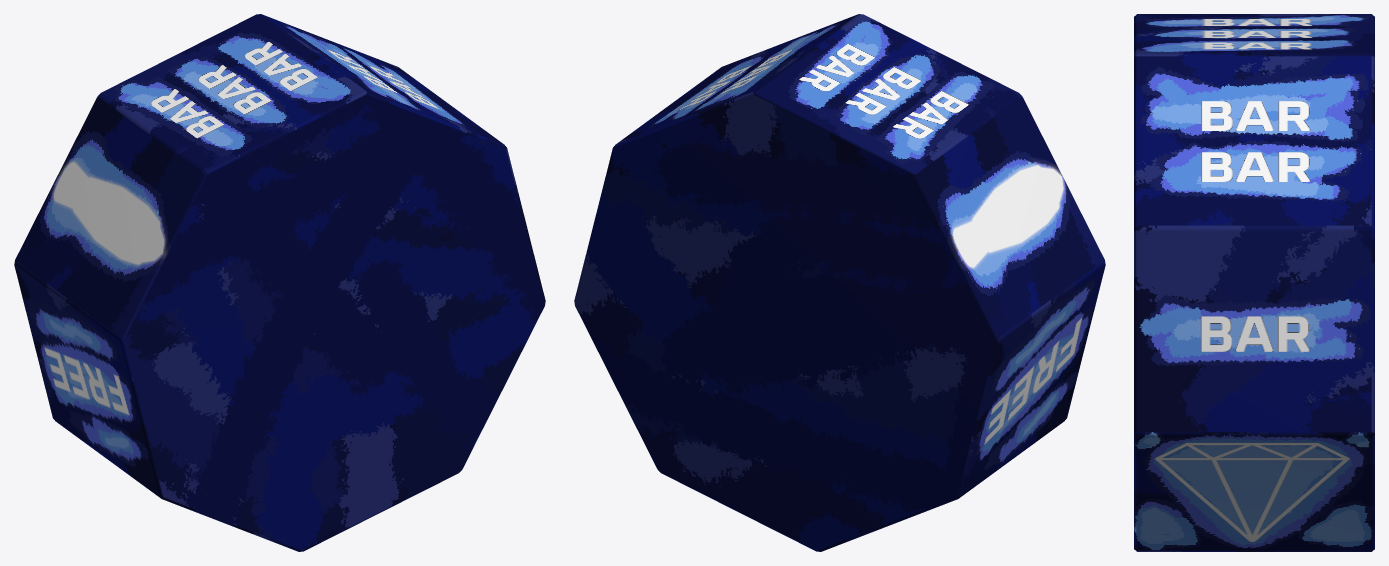
Rendered from SM_SlotMachineWheel.fbx.
The picture shows the model from 3 angles, left to right: view 1: azimuth 30°, elevation 25°; view 2: azimuth 150°, elevation 25°; view 3: azimuth 270°, elevation 25°; orthographic projection. The views are drawn at different scales.
Parts seen in each view (by area): view 1: SM_SlotMachineCylinderBase; view 2: SM_SlotMachineCylinderBase; view 3: SM_SlotMachineCylinderBase.
Boxes of the visible parts, left/top/right/bottom form: SM_SlotMachineCylinderBase: left=14, top=14, right=545, bottom=551; SM_SlotMachineCylinderBase: left=574, top=14, right=1105, bottom=551; SM_SlotMachineCylinderBase: left=1134, top=14, right=1374, bottom=551.
Bounding box in the file's own units: 27.26 × 12.1 × 27.26.
1 material, 1 textured.
